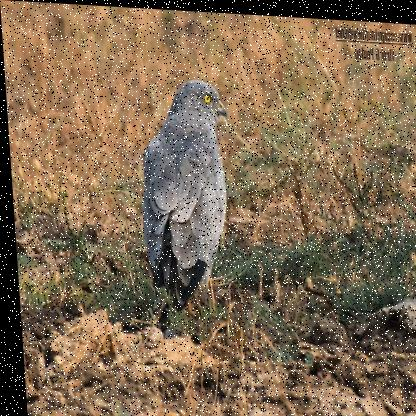Burung: (127, 72, 240, 326)
